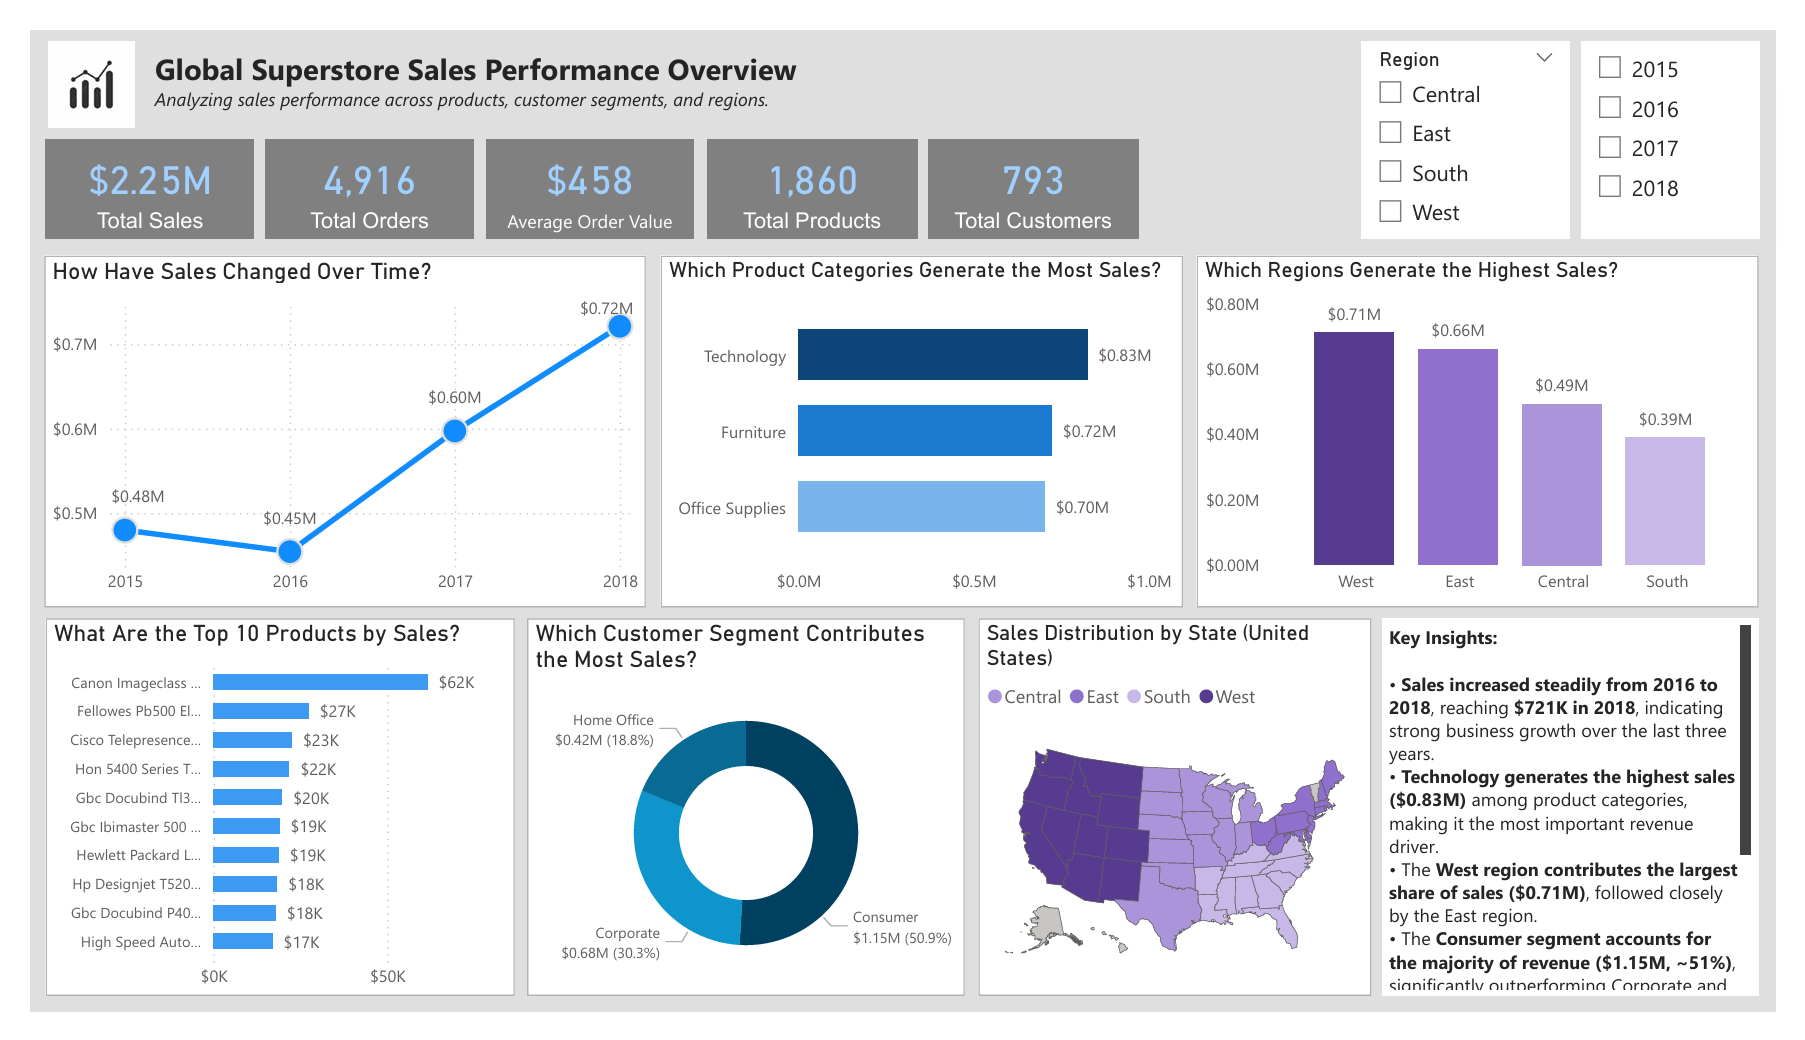

Layout of this report page (visuals, bound fields, positions):
{"tool":"powerbi","page":{"name":"📊 Dashboard 1 — Sales Performance Overview","canvas":[1280,720],"ordinal":0},"visuals":[{"type":"textbox","box":[85.7,8.1,715.6,62.5],"z":0},{"type":"card","fields":{"Values":["superstore_clean.Total Sales"]},"box":[11.1,79.6,153.2,73.6],"z":1000},{"type":"card","fields":{"Values":["superstore_clean.Total Orders"]},"box":[171.8,80,153.6,72.7],"z":2000},{"type":"card","fields":{"Values":["superstore_clean.Average Order Value"]},"box":[333.6,80,152.7,72.7],"z":3000},{"type":"card","fields":{"Values":["Count(superstore_clean.product_id)"]},"box":[496.4,80,153.6,72.7],"z":4000},{"type":"card","fields":{"Values":["Count(superstore_clean.customer_id)"]},"box":[658.2,80,153.6,72.7],"z":5000},{"type":"shapeMap","title":"Regional Sales Distribution in the United States","fields":{"Category":["superstore_clean.state"],"Series":["superstore_clean.region"],"Value":["Sum(superstore_clean.sales)"]},"box":[780.9,429.1,487.3,280.9],"z":6000},{"type":"donutChart","title":"Which Customer Segment Contributes the Most Sales?","fields":{"Category":["superstore_clean.segment"],"Y":["Sum(superstore_clean.sales)"]},"box":[466.4,429.1,306.4,280.9],"z":7000},{"type":"clusteredColumnChart","title":"Which Regions Generate the Highest Sales?","fields":{"Category":["superstore_clean.region"],"Y":["Sum(superstore_clean.sales)"]},"box":[922.7,165.5,345.5,257.3],"z":8000},{"type":"clusteredBarChart","title":"Which Product Categories Generate the Most Sales?\n","fields":{"Category":["superstore_clean.category"],"Y":["Sum(superstore_clean.sales)"]},"box":[600.9,165.5,311.8,257.3],"z":9000},{"type":"clusteredBarChart","title":"What Are the Top 10 Products by Sales?\n","fields":{"Category":["superstore_clean.product_name"],"Y":["Sum(superstore_clean.sales)"]},"box":[10,429.1,447.3,280.9],"z":10000},{"type":"lineChart","title":"How Have Sales Changed Over Time?","fields":{"Category":["superstore_clean.order_year"],"Y":["Sum(superstore_clean.sales)"]},"box":[10,165.7,581.4,257.1],"z":11000},{"type":"slicer","fields":{"Values":["superstore_clean.order_year"]},"box":[1137.3,20.9,130.9,59.1],"z":12000},{"type":"image","box":[8.1,8.1,72.6,62.5],"z":12001}]}

Visuals, with their boxes in screenshot pixels (x1, y1, x2, y2), scaled from the page's 1280x720 canvas onto the 1805x1040 screenshot:
textbox: 121,12,1130,102
card - superstore_clean.Total Sales: 16,115,232,221
card - superstore_clean.Total Orders: 242,116,459,221
card - superstore_clean.Average Order Value: 470,116,686,221
card - Count(superstore_clean.product_id): 700,116,917,221
card - Count(superstore_clean.customer_id): 928,116,1145,221
"Regional Sales Distribution in the United States" shapeMap: 1101,620,1788,1026
"Which Customer Segment Contributes the Most Sales?" donutChart: 658,620,1090,1026
"Which Regions Generate the Highest Sales?" clusteredColumnChart: 1301,239,1788,611
"Which Product Categories Generate the Most Sales?
" clusteredBarChart: 847,239,1287,611
"What Are the Top 10 Products by Sales?
" clusteredBarChart: 14,620,645,1026
"How Have Sales Changed Over Time?" lineChart: 14,239,834,611
slicer - superstore_clean.order_year: 1604,30,1788,116
image: 11,12,114,102
